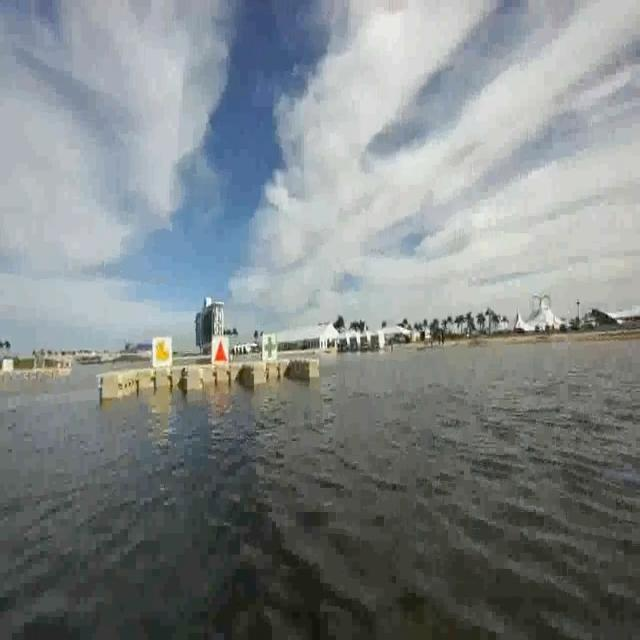blue-cross: (263, 335, 274, 362)
red-dot: (214, 340, 227, 363)
yellow-duck: (153, 337, 170, 366)
